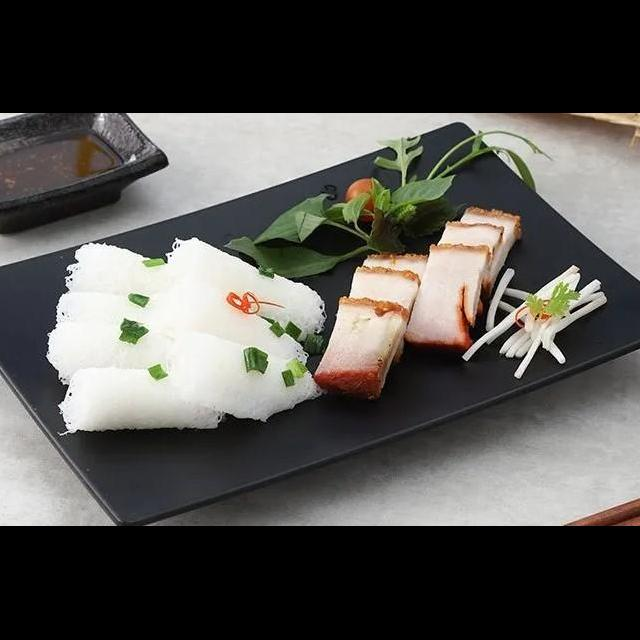banh hoi: (148, 230, 330, 346), (148, 272, 312, 378), (158, 328, 331, 426), (50, 362, 228, 441), (37, 318, 191, 389), (58, 238, 189, 304), (50, 284, 189, 344)
banh hoi heo quay: (15, 218, 586, 478)
thit heo quay: (309, 286, 413, 406), (400, 240, 497, 352), (344, 260, 423, 366), (429, 216, 509, 316), (448, 204, 526, 296), (361, 248, 432, 328)
